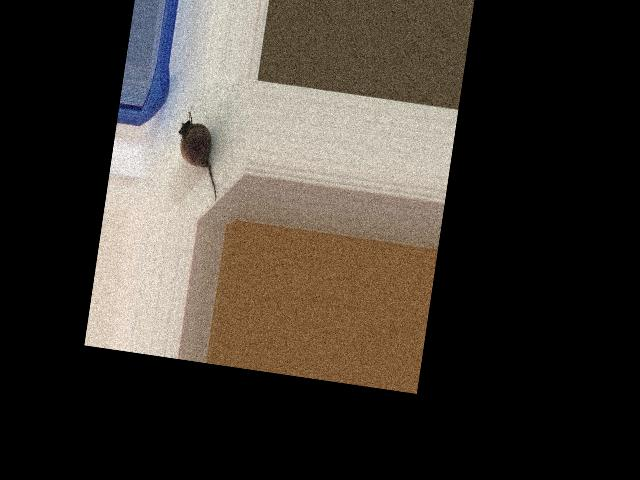beet: (170, 111, 228, 200)
